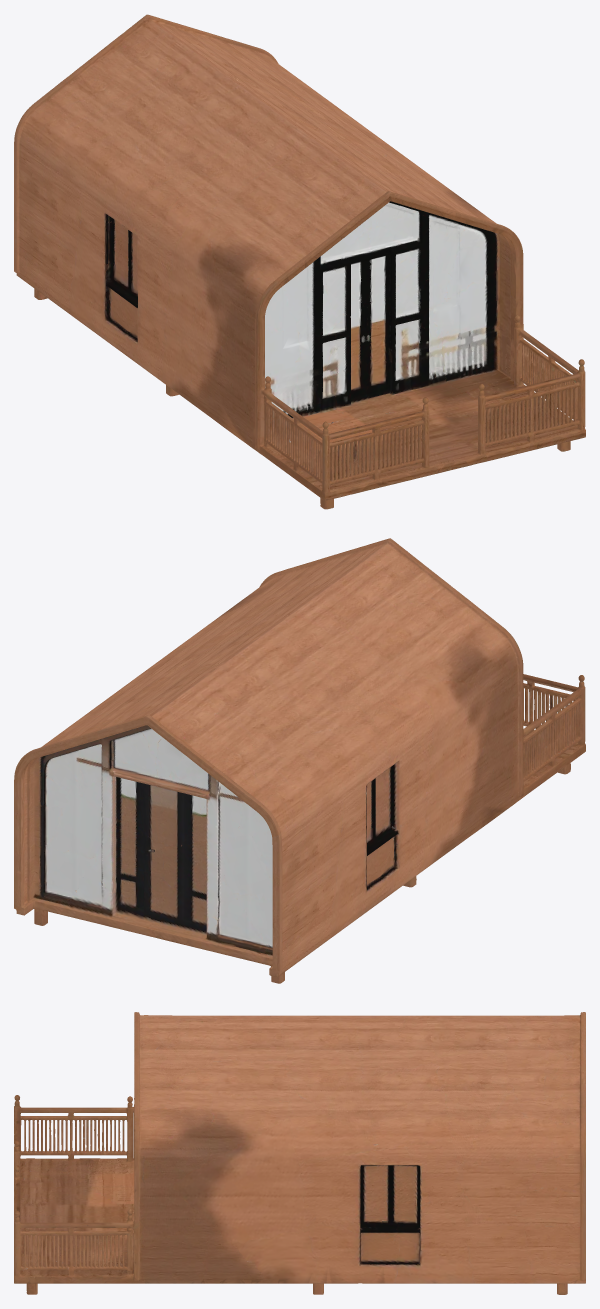
Rendered from nature-cabins.glb.
3 renders of one model, top to bottom at view 1: azimuth 30°, elevation 25°; view 2: azimuth 150°, elevation 25°; view 3: azimuth 270°, elevation 25°, orthographic. The views are drawn at different scales.
Bounding box in the file's own units: 0.9464 × 0.8317 × 1.9.
Materials: 1 (1 with a texture image).
